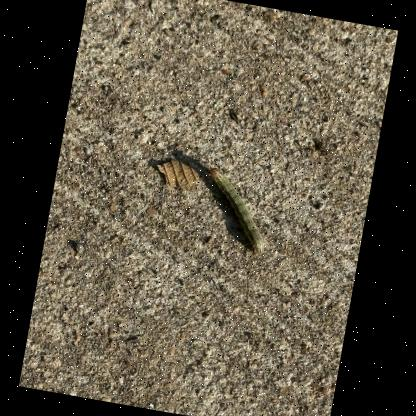Fall Armyworm Larvae: (193, 164, 278, 260)
